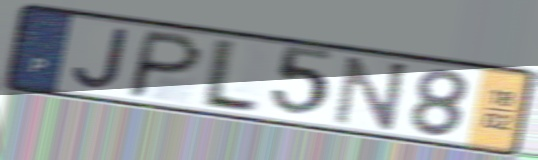5: (267, 43, 338, 123)
8: (409, 67, 472, 139)
J: (69, 26, 133, 92)
L: (194, 36, 264, 116)
N: (331, 53, 412, 132)
P: (122, 27, 207, 102)
